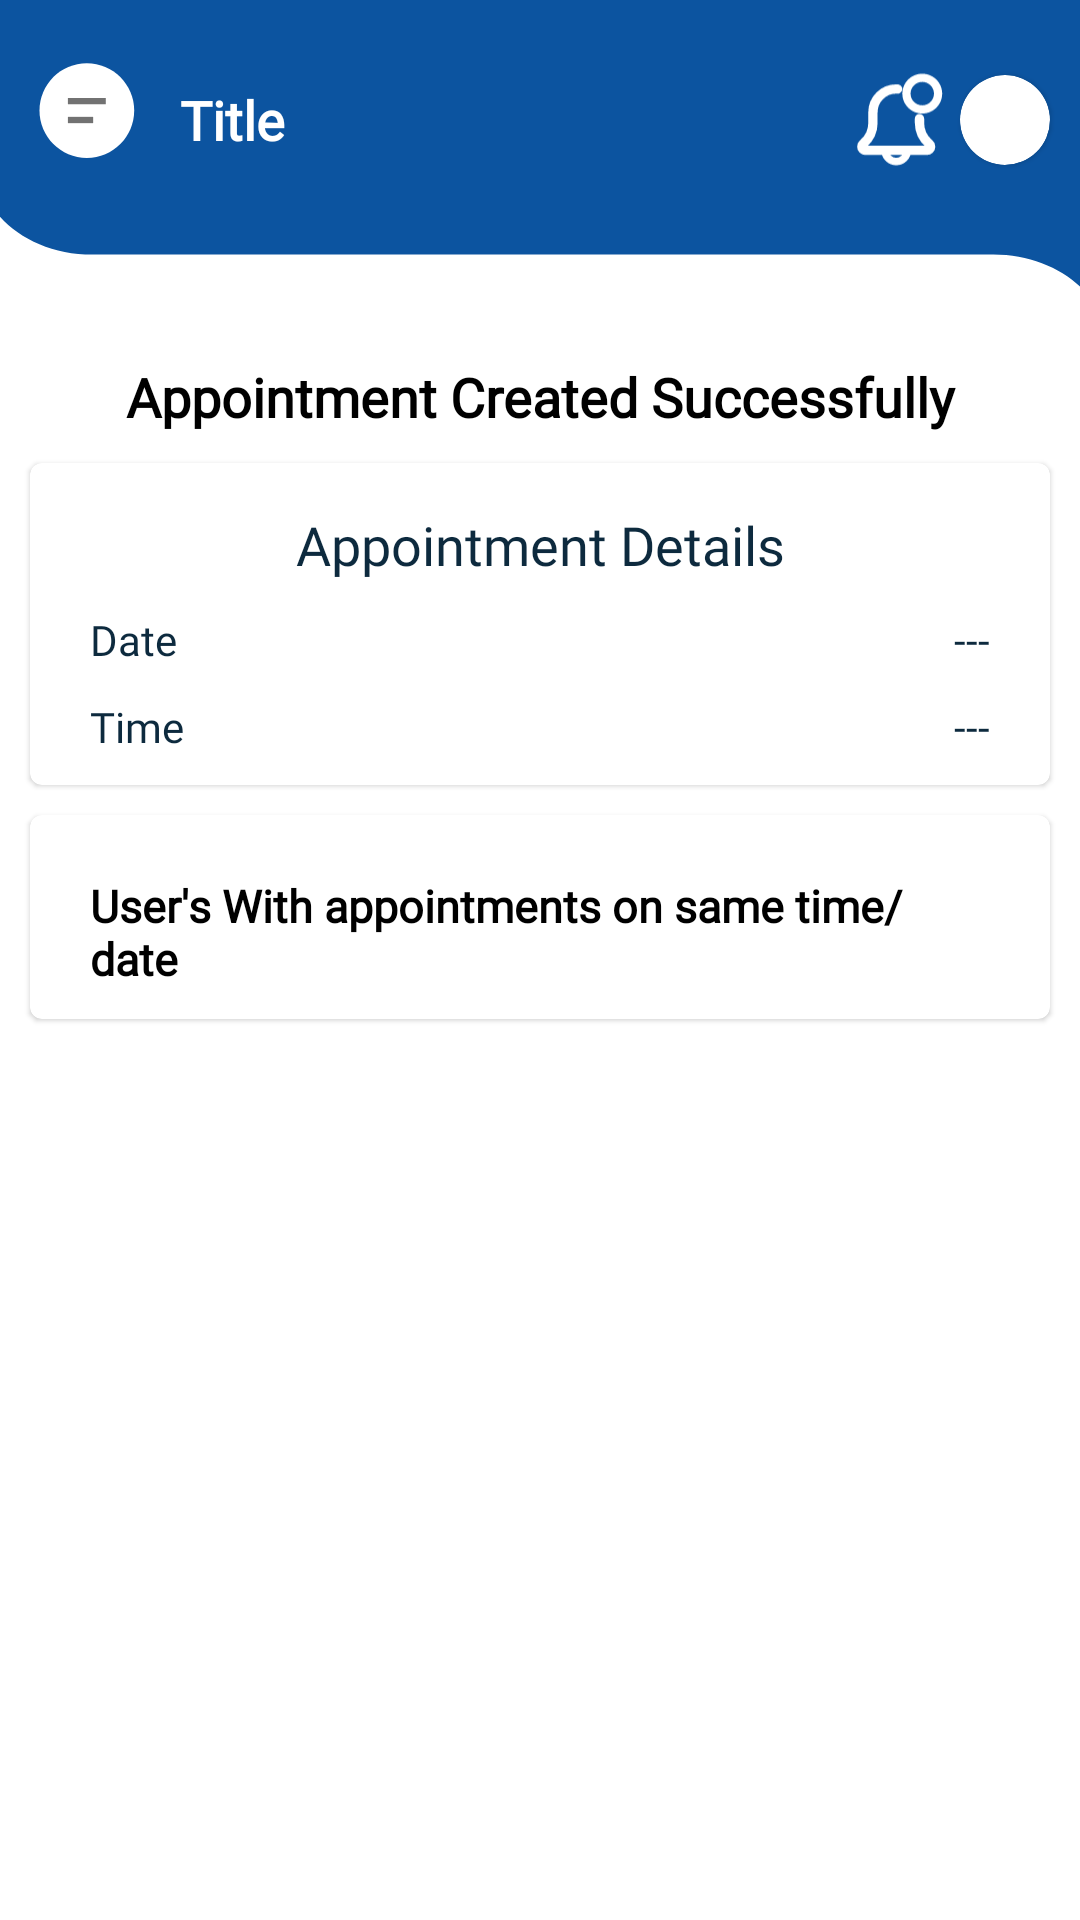

Icon click points for this 1080 x 1920 phone screenshot, format point (x, y):
menu: point (87, 110)
notification: point (900, 119)
